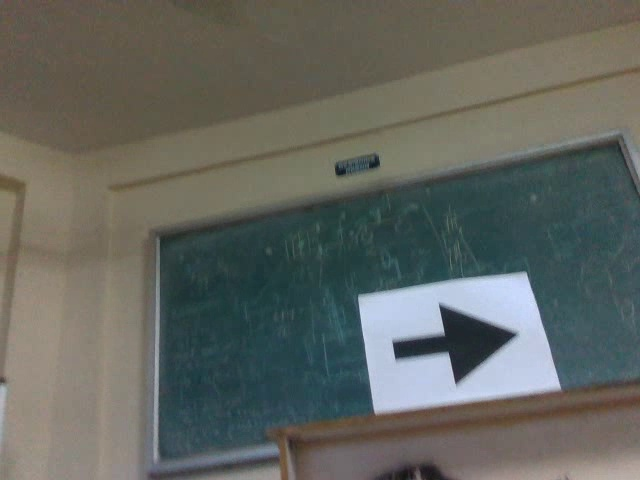Right: (385, 297, 523, 387)
